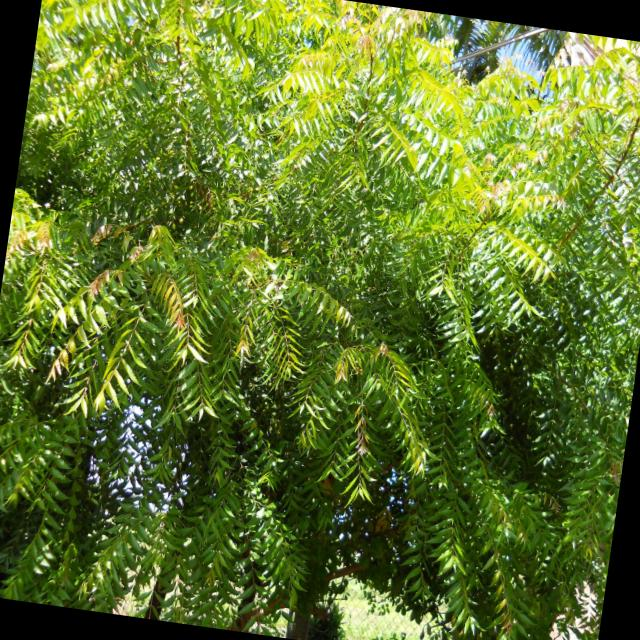Medicinal-Neem: (24, 144, 483, 511), (412, 95, 640, 640), (230, 6, 488, 240), (0, 448, 305, 638), (30, 0, 251, 164)
